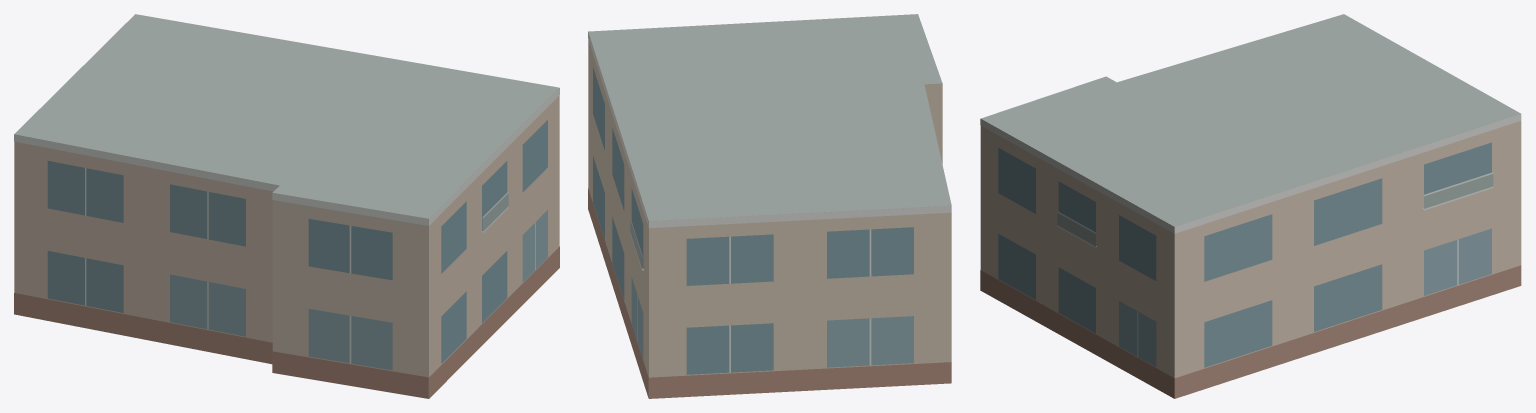
The model's file is survey-upis-32848918.glb.
3 renders of one model, left to right at view 1: azimuth 30°, elevation 25°; view 2: azimuth 150°, elevation 25°; view 3: azimuth 270°, elevation 25°, orthographic. The views are drawn at different scales.
Visible parts, largest first — view 1: survey-upis-32848918.tmp; view 2: survey-upis-32848918.tmp; view 3: survey-upis-32848918.tmp.
Part boxes in pixels (bbox=[...]): survey-upis-32848918.tmp: bbox=[14, 14, 559, 398]; survey-upis-32848918.tmp: bbox=[588, 14, 951, 398]; survey-upis-32848918.tmp: bbox=[980, 14, 1521, 398].
Bounding box in the file's own units: 16.21 × 6.1 × 17.39.
